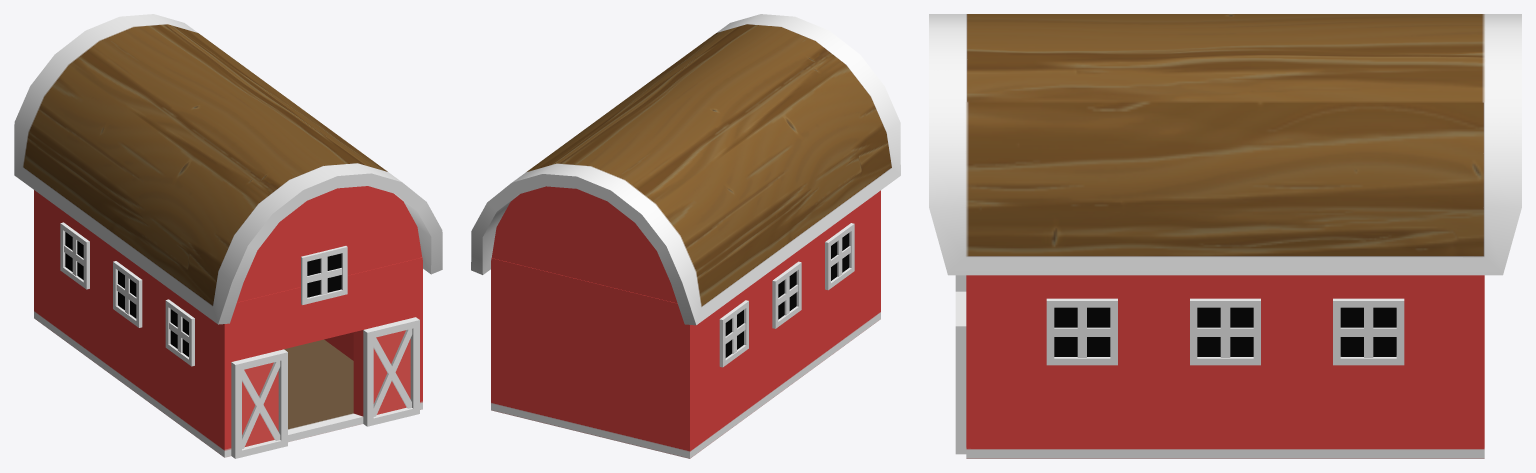
Rendered from RongNa.fbx.
3 renders of one model, left to right at view 1: azimuth 30°, elevation 25°; view 2: azimuth 150°, elevation 25°; view 3: azimuth 270°, elevation 25°, orthographic. The views are drawn at different scales.
Visible parts, largest first — view 1: RongNa; view 2: RongNa; view 3: RongNa.
Boxes of the visible parts, <box> form: RongNa: <box>14,14,442,458</box>; RongNa: <box>471,14,900,458</box>; RongNa: <box>929,14,1521,458</box>.
Size of the model in its own units: 17.28 by 19.65 by 29.
